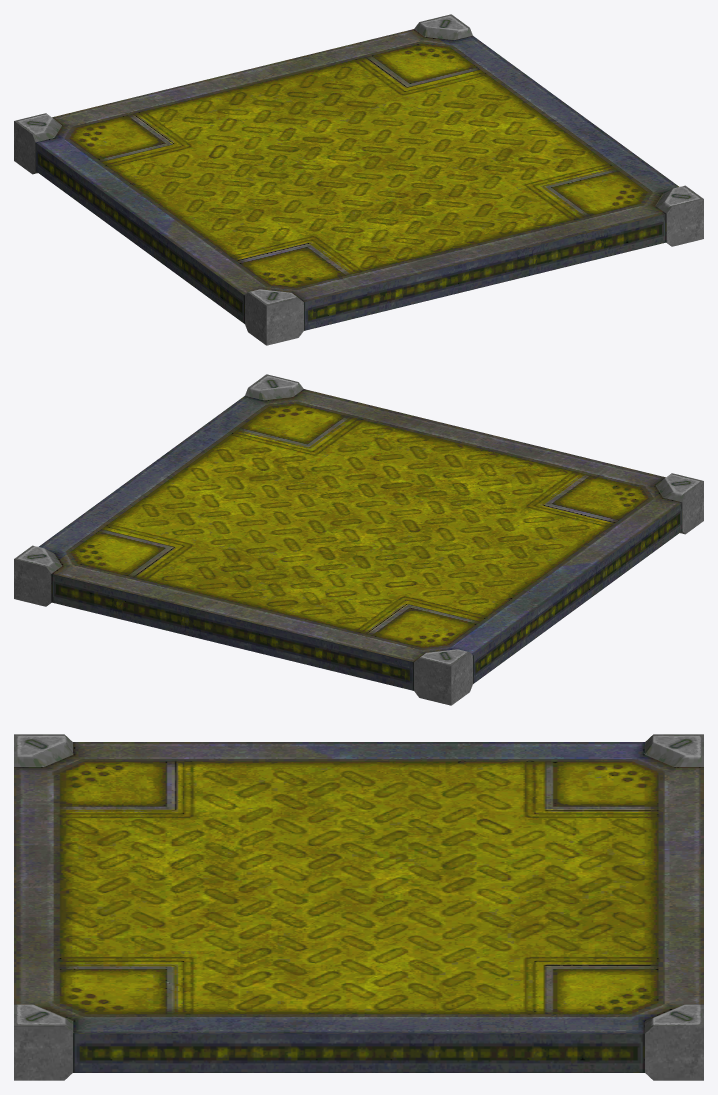
The model's file is catwalk_4way_nohandrail.dae.
The picture shows the model from 3 angles, top to bottom: view 1: azimuth 30°, elevation 25°; view 2: azimuth 150°, elevation 25°; view 3: azimuth 270°, elevation 25°; orthographic projection. The views are drawn at different scales.
Parts seen in each view (by area): view 1: pCube2; view 2: pCube2; view 3: pCube2.
Part boxes in pixels (x1,y1,x2,y2): pCube2: (14,14,703,345); pCube2: (14,374,703,705); pCube2: (14,734,703,1080).
Size of the model in its own units: 2 by 0.1745 by 2.
Materials: 1 (1 with a texture image).
